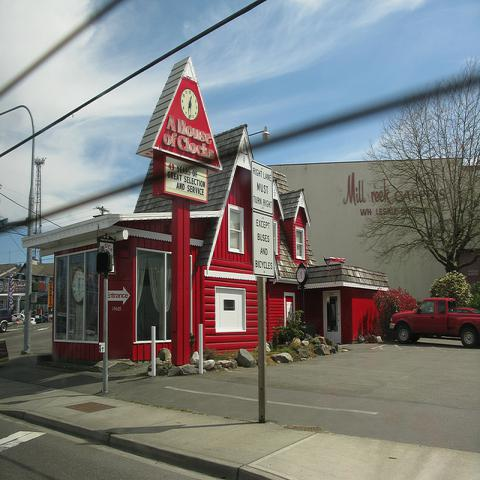car: (13, 313, 36, 324), (35, 315, 51, 323)
truck: (388, 298, 480, 349), (0, 309, 13, 332)
